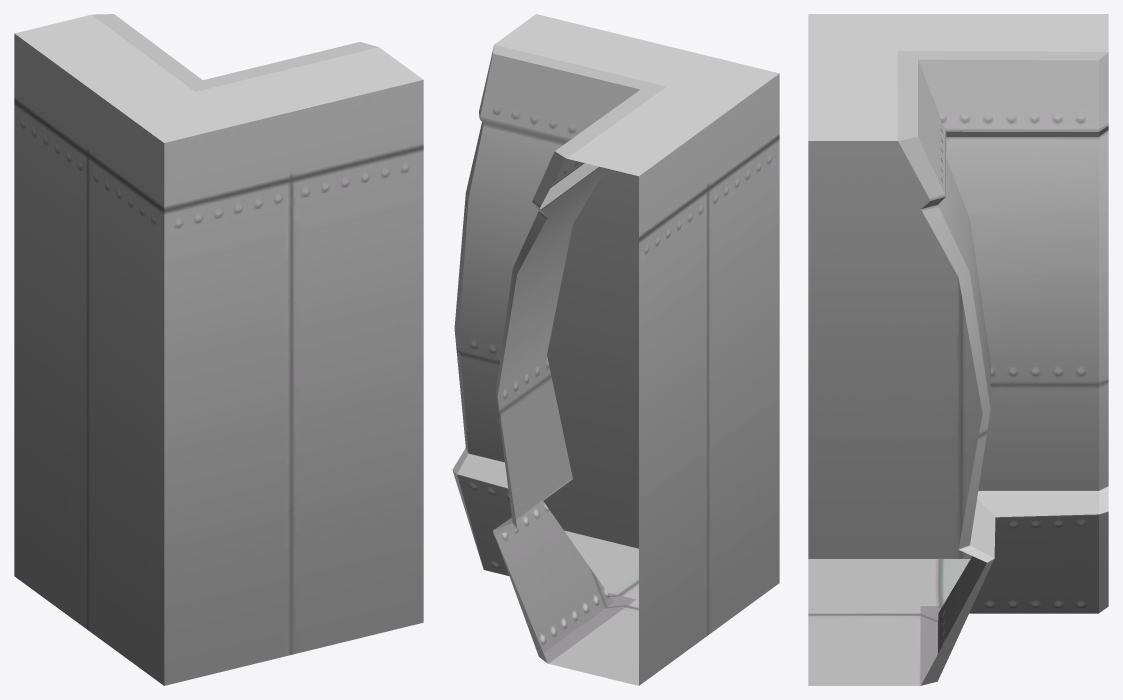
File: Space_Wall_274.fbx
3 renders of one model, left to right at view 1: azimuth 30°, elevation 25°; view 2: azimuth 150°, elevation 25°; view 3: azimuth 270°, elevation 25°, orthographic. The views are drawn at different scales.
Visible parts, largest first — view 1: Space_Wall_274; view 2: Space_Wall_274; view 3: Space_Wall_274.
Boxes of the visible parts, x1,y1,x2,y2 form: Space_Wall_274: (14, 14, 423, 685); Space_Wall_274: (452, 14, 779, 685); Space_Wall_274: (808, 14, 1108, 685).
Bounding box in the file's own units: 1.2 × 2.4 × 1.2.
1 material, 1 textured.
